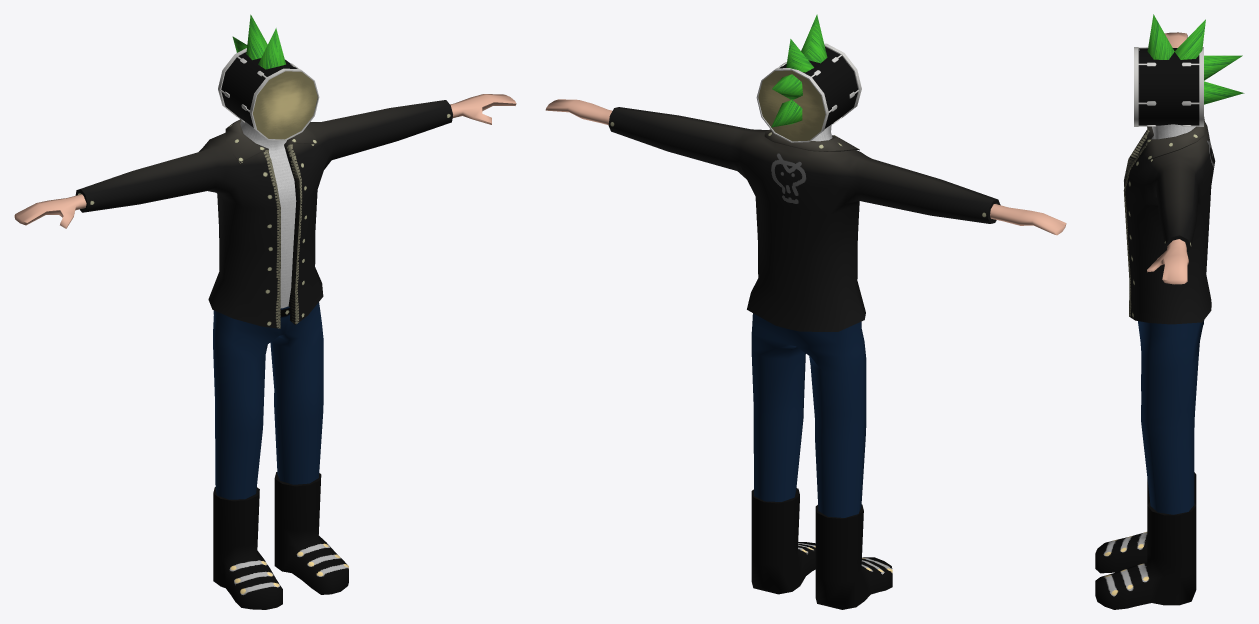
3 renders of one model, left to right at view 1: azimuth 30°, elevation 25°; view 2: azimuth 150°, elevation 25°; view 3: azimuth 270°, elevation 25°, orthographic. The views are drawn at different scales.
Parts seen in each view (by area): view 1: Body.002; view 2: Body.002; view 3: Body.002.
Boxes of the visible parts, x1,y1,x2,y2 form: Body.002: [14, 14, 516, 609]; Body.002: [545, 14, 1066, 609]; Body.002: [1095, 14, 1244, 609].
Size of the model in its own units: 4.63 by 4.97 by 1.18.
